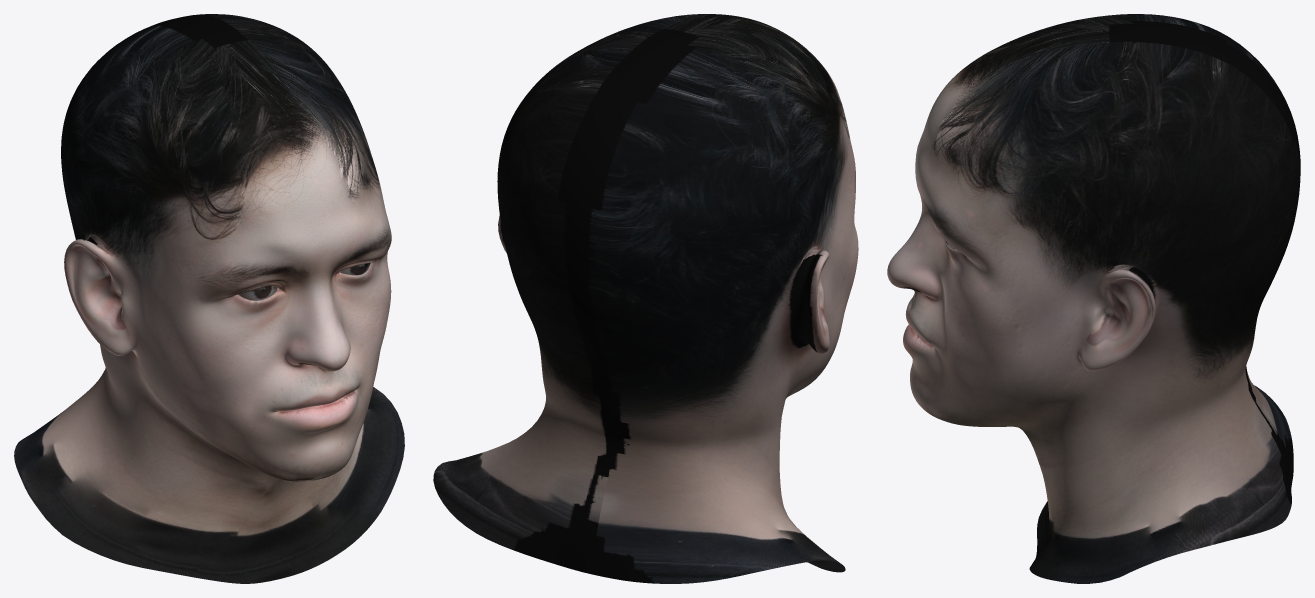
Rendered from head.glb.
3 renders of one model, left to right at view 1: azimuth 30°, elevation 25°; view 2: azimuth 150°, elevation 25°; view 3: azimuth 270°, elevation 25°, orthographic. The views are drawn at different scales.
Parts seen in each view (by area): view 1: FBHead; view 2: FBHead; view 3: FBHead.
Boxes of the visible parts, x1,y1,x2,y2 form: FBHead: (14,14,404,583); FBHead: (433,14,858,583); FBHead: (887,14,1300,583).
Size of the model in its own units: 1.9 by 2.58 by 1.86.
1 material, 1 textured.
